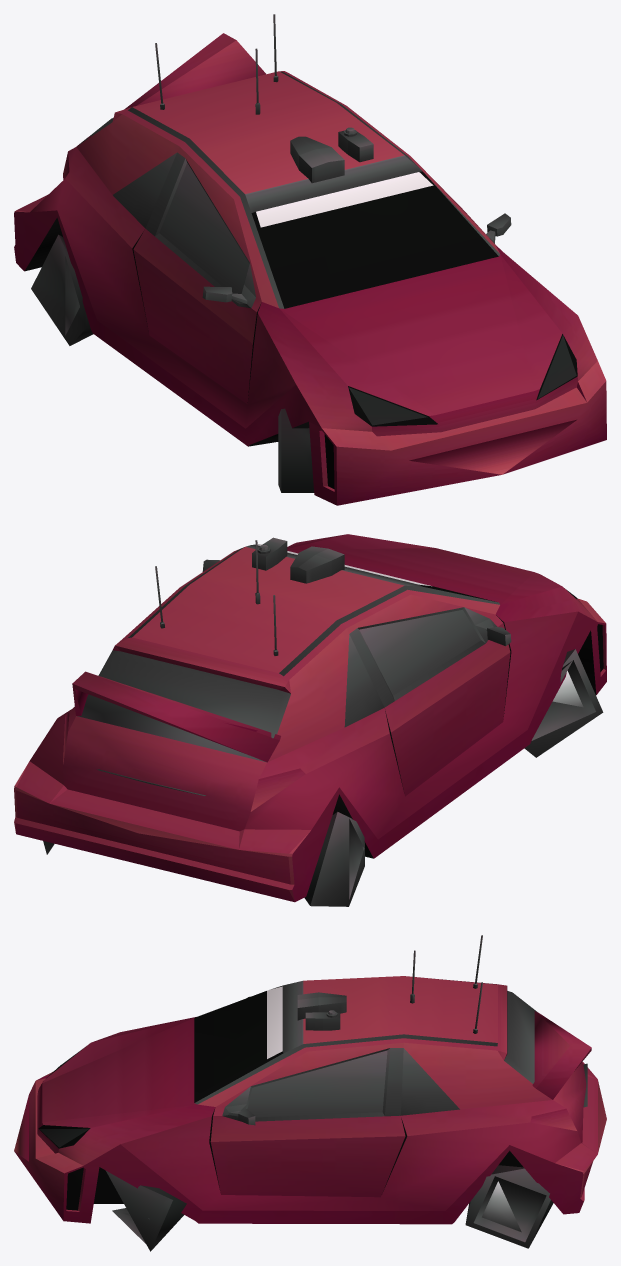
File: v_peug_lo.glb
3 renders of one model, top to bottom at view 1: azimuth 30°, elevation 25°; view 2: azimuth 150°, elevation 25°; view 3: azimuth 270°, elevation 25°, orthographic. The views are drawn at different scales.
Visible parts, largest first — view 1: Body.001_material_0; view 2: Body.001_material_0; view 3: Body.001_material_0.
Boxes of the visible parts, <box> form: Body.001_material_0: <box>14,14,606,505</box>; Body.001_material_0: <box>14,534,606,906</box>; Body.001_material_0: <box>14,935,606,1251</box>.
Size of the model in its own units: 0.7095 by 0.6264 by 1.39.
Materials: 1 (1 with a texture image).
